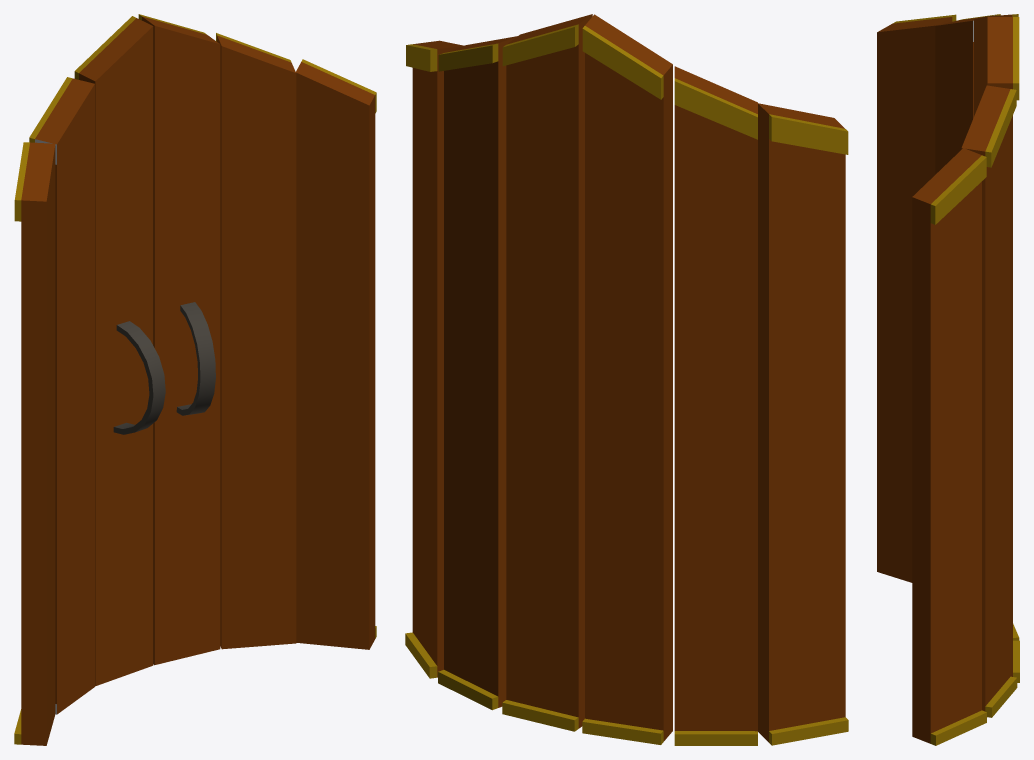
The model's file is Shield.fbx.
3 renders of one model, left to right at view 1: azimuth 30°, elevation 25°; view 2: azimuth 150°, elevation 25°; view 3: azimuth 270°, elevation 25°, orthographic. The views are drawn at different scales.
Parts seen in each view (by area): view 1: pPipe3; view 2: pPipe3; view 3: pPipe3.
Boxes of the visible parts, bbox=[...] form: pPipe3: bbox=[14, 14, 376, 745]; pPipe3: bbox=[405, 14, 848, 745]; pPipe3: bbox=[877, 14, 1019, 745].
Bounding box in the file's own units: 0.764 × 0.2492 × 1.22.
